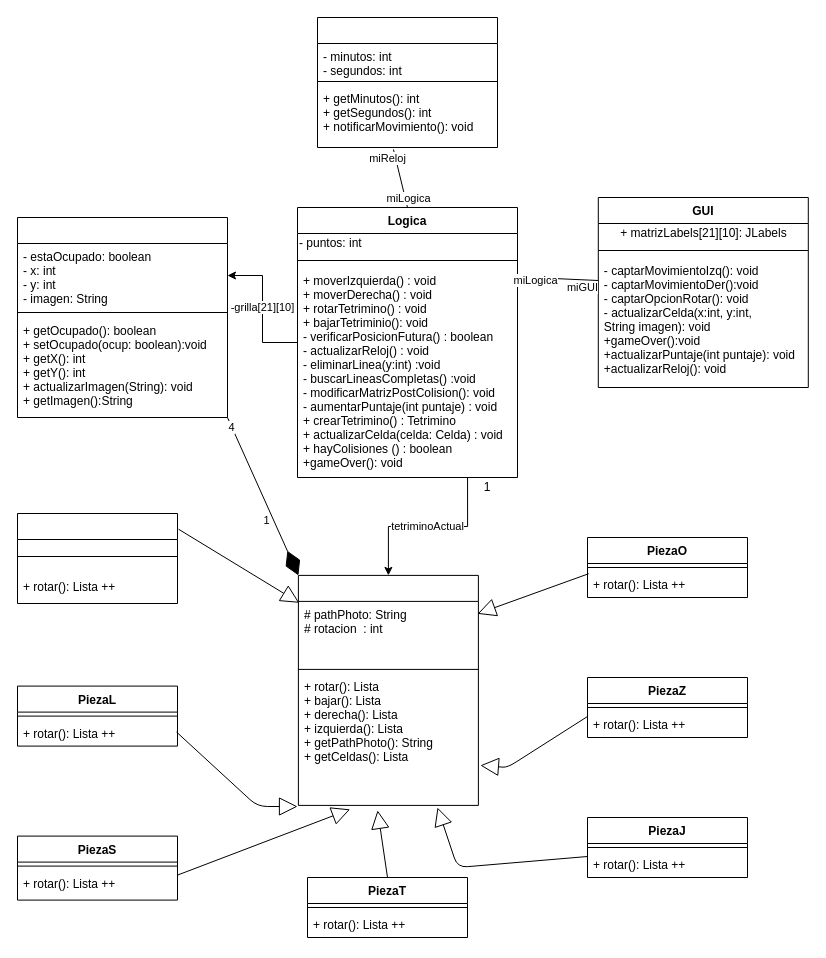
The diagram is 826 pixels wide and 958 high, and some of its shapes have lost their labels. The shapes that lost their labels are listed below. From the top down, each one's box as (x1, y1, x2, y2) in pixels, then its label:
(316, 16, 498, 148): Reloj
(16, 216, 228, 418): Celda
(16, 512, 178, 604): PiezaI
(297, 574, 478, 805): Tetrimino
